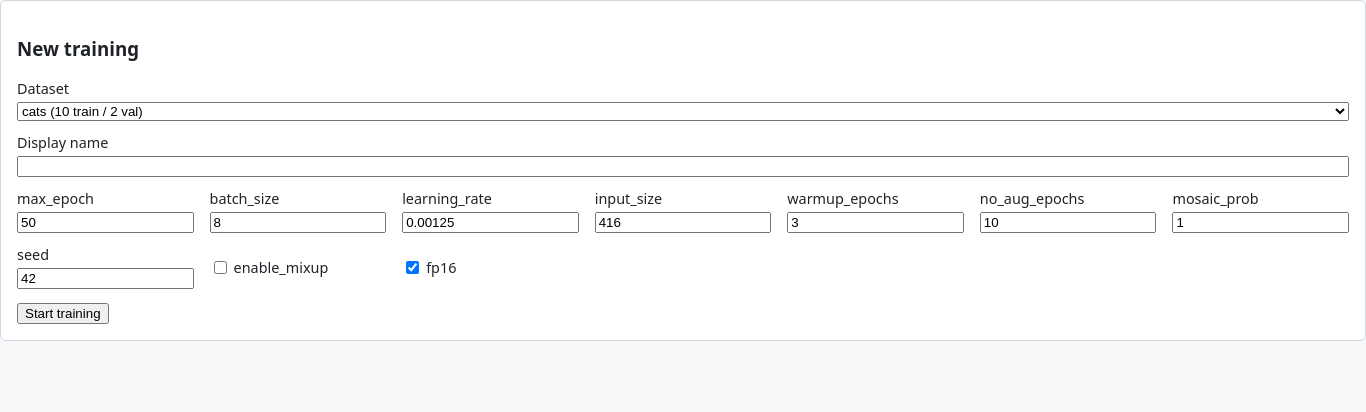
Test: TrainingForm › shows the server's validation message
This screenshot has width=1366, height=412.
Click the button "Start training" at (63, 314), box x1=17 y1=303 x2=109 y2=324
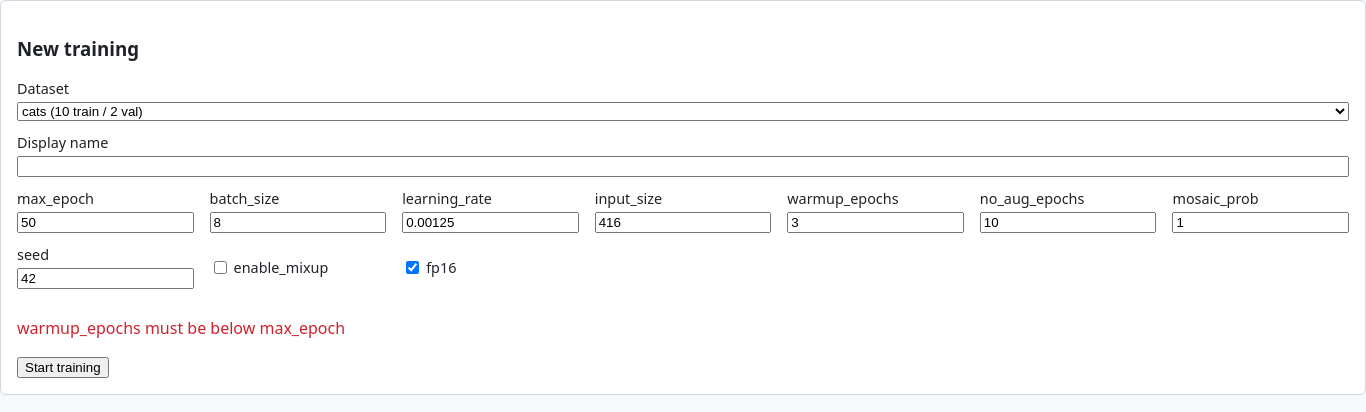
Expected: the text "warmup_epochs must be below max_epoch" is shown, x1=17 y1=317 x2=345 y2=339
